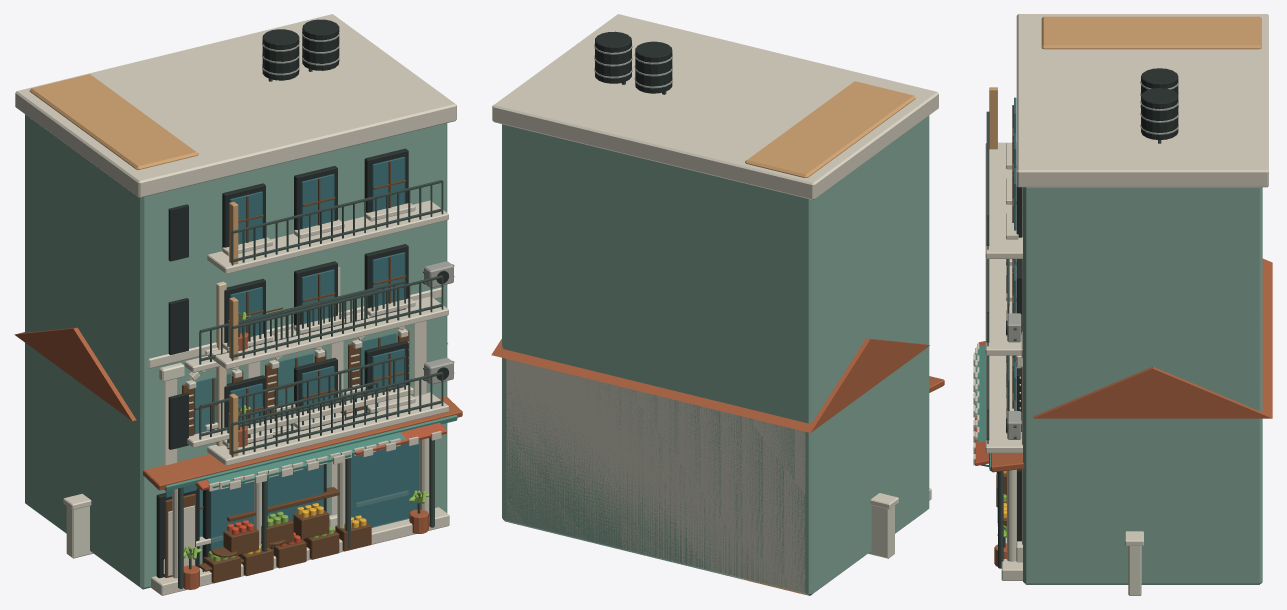
File: architecture.glb
The picture shows the model from 3 angles, left to right: view 1: azimuth 30°, elevation 25°; view 2: azimuth 150°, elevation 25°; view 3: azimuth 270°, elevation 25°; orthographic projection.
Visible parts, largest first — view 1: ARCH_MixedUseApartments__MAT_PlasterSage, ARCH_MixedUseApartments__MAT_TrimStone, ARCH_MixedUseApartments__MAT_Glass, ARCH_MixedUseApartments__MAT_Shadow, ARCH_MixedUseApartments__MAT_PaintedMetal, ARCH_MixedUseApartments__MAT_PlasterOchre, ARCH_VerandahHouse__MAT_Terracotta, ARCH_ProduceShop__MAT_Timber, ARCH_HeritageFacade__MAT_TrimStone, ARCH_CafeShopHouse__MAT_PaintedMetal, ARCH_VerandahHouse__MAT_TrimStone, ARCH_CafeShopHouse__MAT_TrimStone (+11 smaller); view 2: ARCH_MixedUseApartments__MAT_PlasterSage, ARCH_VerandahHouse__MAT_Limewash, ARCH_MixedUseApartments__MAT_TrimStone, ARCH_MixedUseApartments__MAT_PlasterOchre, ARCH_VerandahHouse__MAT_Terracotta, ARCH_MixedUseApartments__MAT_Shadow, ARCH_GardenWallGate__MAT_Limewash, ARCH_MixedUseApartments__MAT_Concrete; view 3: ARCH_MixedUseApartments__MAT_PlasterSage, ARCH_MixedUseApartments__MAT_TrimStone, ARCH_VerandahHouse__MAT_Terracotta, ARCH_MixedUseApartments__MAT_PlasterOchre, ARCH_MixedUseApartments__MAT_Shadow, ARCH_VerandahHouse__MAT_TrimStone, ARCH_MixedUseApartments__MAT_PaintedMetal, ARCH_MixedUseApartments__MAT_Concrete, ARCH_ProduceShop__MAT_AwningGreen, ARCH_MixedUseApartments__MAT_Glass, ARCH_GardenWallGate__MAT_Limewash, ARCH_HeritageFacade__MAT_PaintedMetal (+2 smaller).
Boxes of the visible parts, box(x1,y1,x2,y2) form: ARCH_MixedUseApartments__MAT_PlasterSage: box(25, 114, 447, 589); ARCH_MixedUseApartments__MAT_TrimStone: box(15, 14, 456, 575); ARCH_MixedUseApartments__MAT_Glass: box(165, 157, 419, 551); ARCH_MixedUseApartments__MAT_Shadow: box(156, 19, 448, 578); ARCH_MixedUseApartments__MAT_PaintedMetal: box(231, 69, 454, 457); ARCH_MixedUseApartments__MAT_PlasterOchre: box(29, 74, 238, 456); ARCH_VerandahHouse__MAT_Terracotta: box(14, 327, 462, 589); ARCH_ProduceShop__MAT_Timber: box(203, 487, 371, 583); ARCH_HeritageFacade__MAT_TrimStone: box(148, 287, 441, 546); ARCH_CafeShopHouse__MAT_PaintedMetal: box(195, 280, 405, 572); ARCH_VerandahHouse__MAT_TrimStone: box(150, 438, 449, 595); ARCH_CafeShopHouse__MAT_TrimStone: box(184, 311, 413, 491); ARCH_MixedUseApartments__MAT_PlasterSage: box(502, 115, 929, 595); ARCH_VerandahHouse__MAT_Limewash: box(506, 359, 806, 594); ARCH_MixedUseApartments__MAT_TrimStone: box(492, 14, 938, 199); ARCH_MixedUseApartments__MAT_PlasterOchre: box(745, 81, 915, 594); ARCH_VerandahHouse__MAT_Terracotta: box(491, 338, 944, 432); ARCH_MixedUseApartments__MAT_Shadow: box(595, 31, 672, 93); ARCH_GardenWallGate__MAT_Limewash: box(868, 505, 894, 558); ARCH_MixedUseApartments__MAT_Concrete: box(594, 43, 672, 88); ARCH_MixedUseApartments__MAT_PlasterSage: box(1023, 187, 1262, 584); ARCH_MixedUseApartments__MAT_TrimStone: box(973, 14, 1268, 465); ARCH_VerandahHouse__MAT_Terracotta: box(991, 258, 1272, 566); ARCH_MixedUseApartments__MAT_PlasterOchre: box(989, 16, 1261, 149); ARCH_MixedUseApartments__MAT_Shadow: box(1006, 68, 1178, 541); ARCH_VerandahHouse__MAT_TrimStone: box(1001, 469, 1022, 580); ARCH_MixedUseApartments__MAT_PaintedMetal: box(981, 111, 1161, 466); ARCH_MixedUseApartments__MAT_Concrete: box(1007, 81, 1178, 439); ARCH_ProduceShop__MAT_AwningGreen: box(976, 345, 985, 442); ARCH_MixedUseApartments__MAT_Glass: box(1014, 97, 1016, 410); ARCH_GardenWallGate__MAT_Limewash: box(1128, 546, 1141, 595); ARCH_HeritageFacade__MAT_PaintedMetal: box(998, 471, 1003, 568).
Size of the model in its own units: 10.12 by 12.78 by 7.5.
